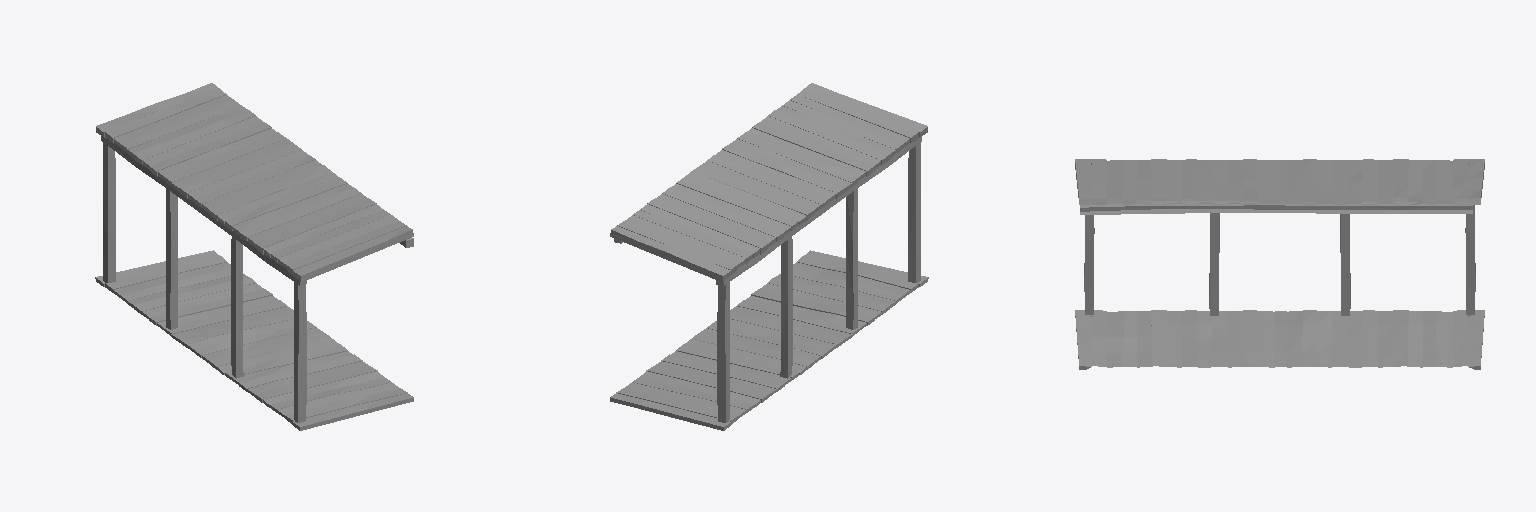
Rendered from Porch.obj.
3 views of the same model, side by side, from view 1: azimuth 30°, elevation 25°; view 2: azimuth 150°, elevation 25°; view 3: azimuth 270°, elevation 25° (orthographic).
Parts seen in each view (by area): view 1: WildWest_Porch; view 2: WildWest_Porch; view 3: WildWest_Porch.
Part boxes in pixels (x1,y1,x2,y2): WildWest_Porch: (95,83,413,430); WildWest_Porch: (610,83,928,430); WildWest_Porch: (1075,159,1484,369).
Size of the model in its own units: 2.43 by 3.43 by 7.4.